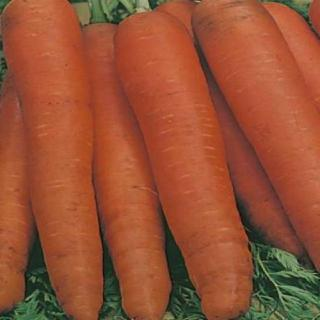carrot: (112, 7, 251, 320), (189, 0, 320, 277), (0, 0, 102, 320)
